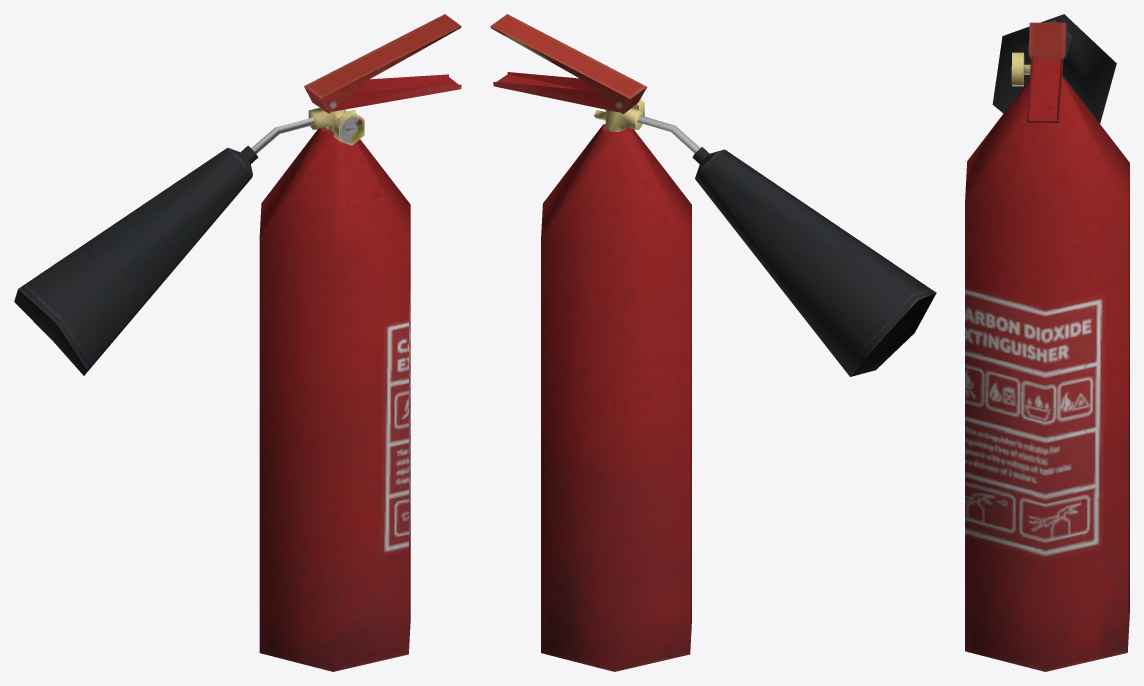
Rendered from sm_fire_extinguisher.gltf.
3 views of the same model, side by side, from view 1: azimuth 30°, elevation 25°; view 2: azimuth 150°, elevation 25°; view 3: azimuth 270°, elevation 25° (orthographic). The views are drawn at different scales.
Parts seen in each view (by area): view 1: body_LOD2, cone_LOD2, handle_top_LOD2, handle_bottom_LOD2, barometer_LOD2; view 2: body_LOD2, cone_LOD2, handle_top_LOD2, handle_bottom_LOD2, valve_LOD2; view 3: body_LOD2, cone_LOD2, handle_bottom_LOD2, handle_top_LOD2, barometer_LOD2.
Boxes of the visible parts, <box> form: body_LOD2: <box>259,127,410,671</box>; cone_LOD2: <box>14,145,258,375</box>; handle_top_LOD2: <box>304,14,461,113</box>; handle_bottom_LOD2: <box>323,74,461,112</box>; barometer_LOD2: <box>334,111,364,145</box>; body_LOD2: <box>541,124,691,671</box>; cone_LOD2: <box>692,147,936,376</box>; handle_top_LOD2: <box>490,14,646,114</box>; handle_bottom_LOD2: <box>493,72,638,112</box>; valve_LOD2: <box>594,108,642,131</box>; body_LOD2: <box>965,75,1129,671</box>; cone_LOD2: <box>992,14,1116,123</box>; handle_bottom_LOD2: <box>1027,58,1063,122</box>; handle_top_LOD2: <box>1028,22,1066,58</box>; barometer_LOD2: <box>1011,52,1024,86</box>.
Bounding box in the file's own units: 0.4298 × 0.5631 × 0.1315.
Materials: 1 (1 with a texture image).
